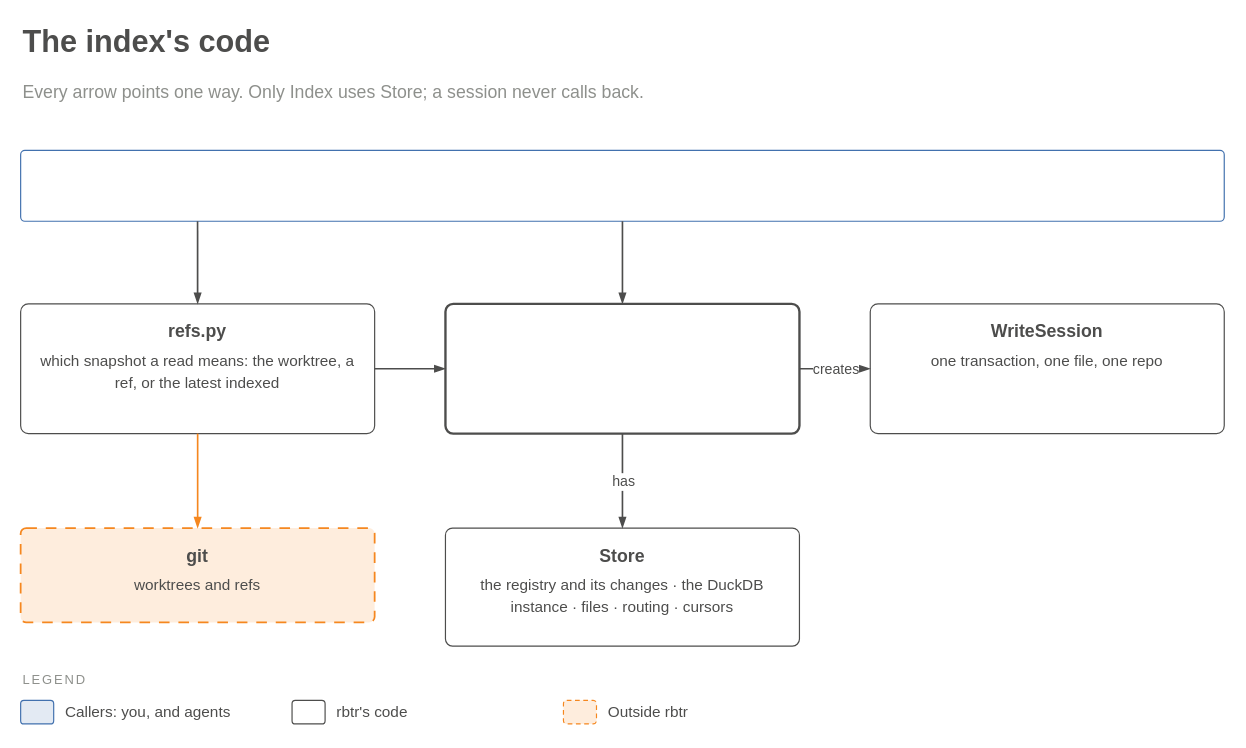
Image size: 1246x748. Some labels were removed from this diagram. The shapes that lost their labels are listed below. From the top down, each one's centre as x and y in pixels, then its label:
At (621,185): "Callers build · embed · gc · watch · daemon handlers · search".
At (622,368): "Index every read · session(repo) · registry changes, handed to Store".
